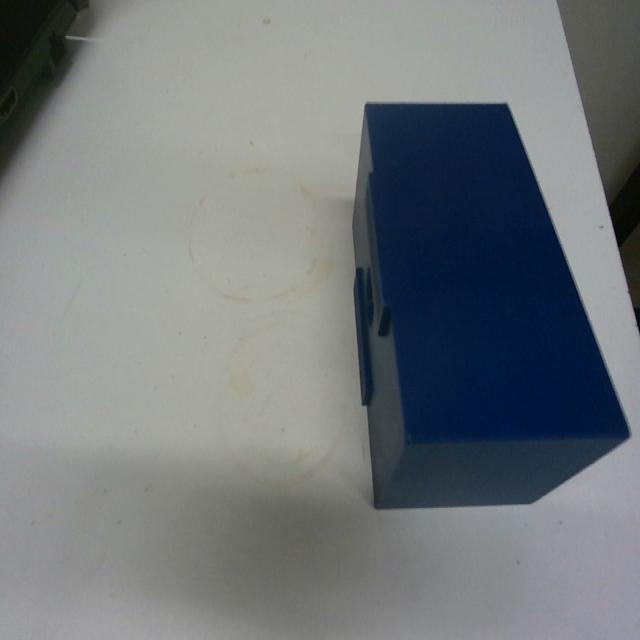Blue Cuboid: (349, 97, 631, 511)
